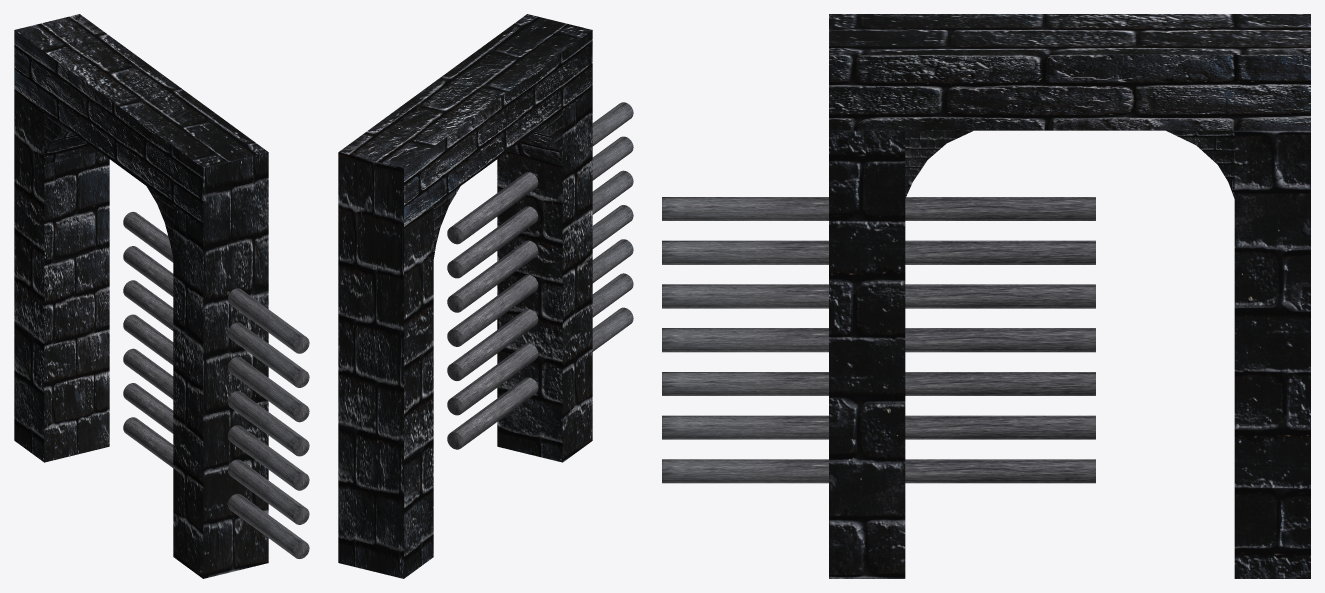
Rendered from archway_2_with_bars.fbx.
3 views of the same model, side by side, from view 1: azimuth 30°, elevation 25°; view 2: azimuth 150°, elevation 25°; view 3: azimuth 270°, elevation 25° (orthographic). The views are drawn at different scales.
Parts seen in each view (by area): view 1: Arch, Bars; view 2: Arch, Bars; view 3: Arch, Bars.
Boxes of the visible parts, x1,y1,x2,y2 form: Arch: (14, 14, 268, 578); Bars: (123, 212, 309, 558); Arch: (338, 14, 592, 578); Bars: (447, 102, 633, 449); Arch: (829, 14, 1310, 578); Bars: (662, 197, 1095, 483).
Bounding box in the file's own units: 40 × 240 × 269.
